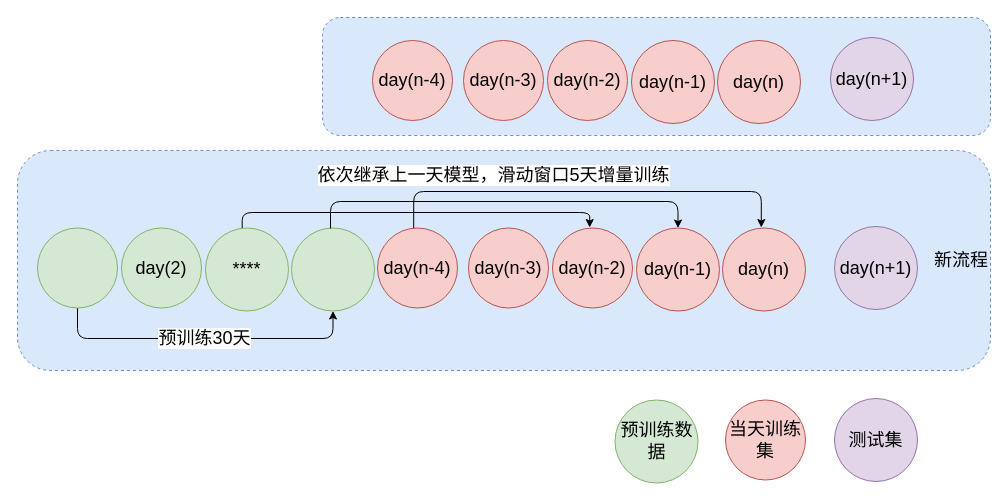
Some shapes in this 1008 by 501 pixel diagram are drawn without their labels. The shapes that lost their labels are listed below. From the top down, each one's box as (x1, y1, x2, y2) in pixels, then its label:
(322, 16, 990, 136): 旧流程
(36, 227, 118, 308): day(1)
(290, 227, 374, 311): day(n-5)
